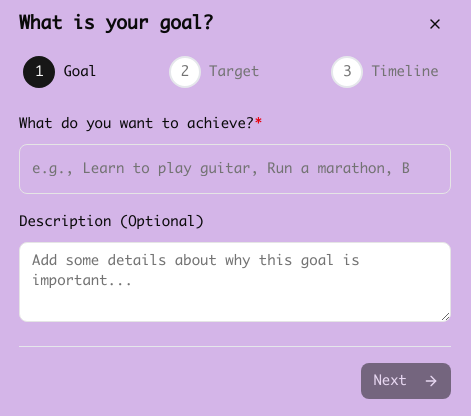
Test: InlineGoalCreation - Goal Validation › AI validation integration › shows valid state when AI approves the goal
The width and height of the screenshot is (471, 416).
Type "run a marathon" into the field with placeholder "Learn to play guitar" at [235, 169], box [19,144,451,194]
Wait 800 ms
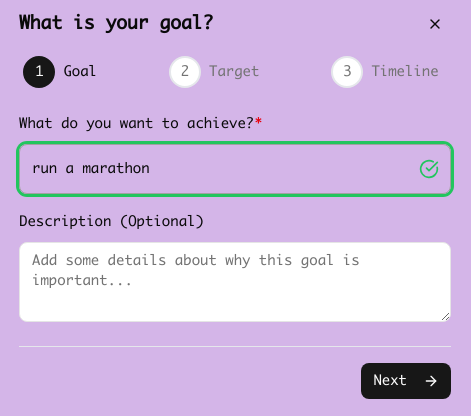
Now the icon with test id "valid-checkmark" is shown, box [419,159,439,179]
